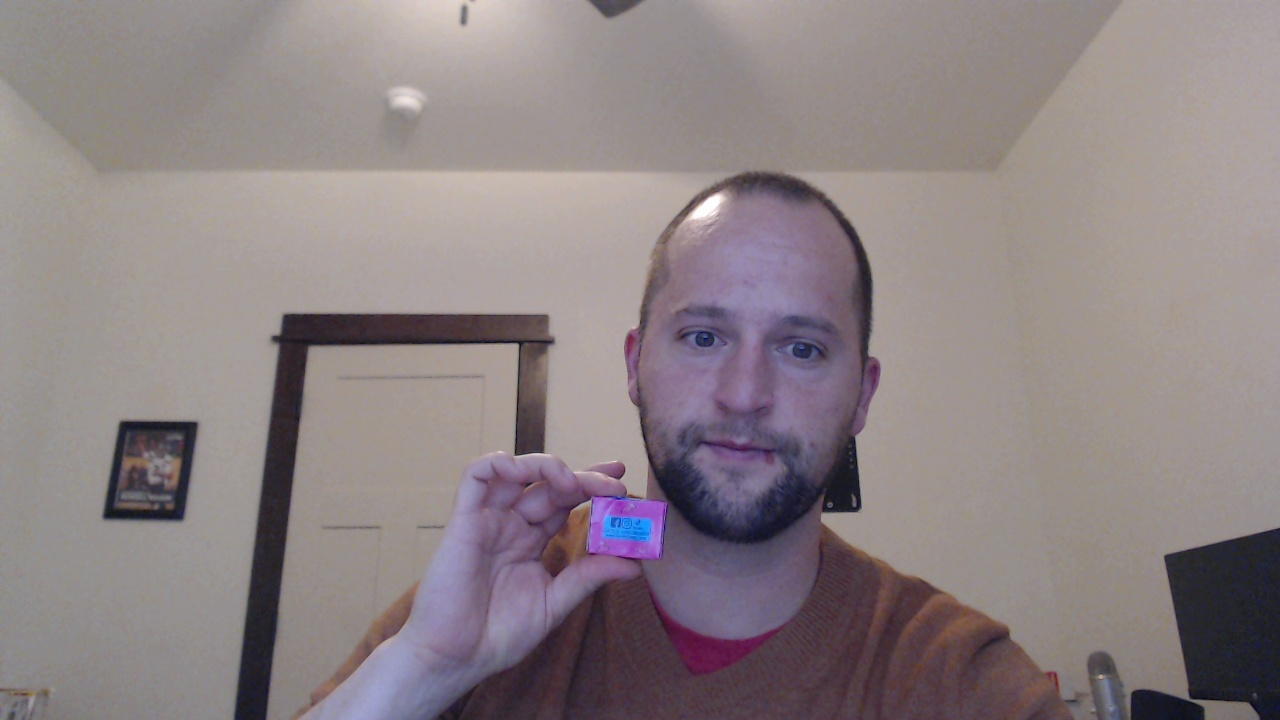nerds: (573, 471, 685, 572)
